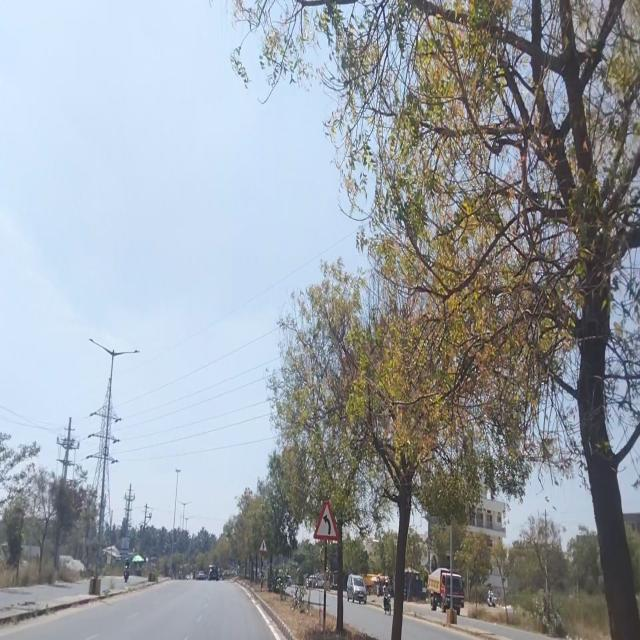bien_cam: (314, 501, 339, 539), (259, 539, 267, 552)
